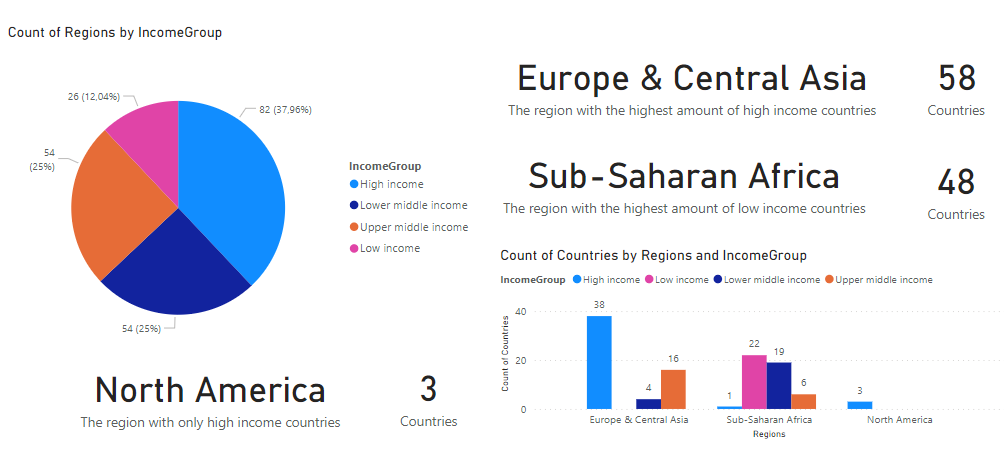

What the dashboard file says about the page in this screenshot:
{"tool":"powerbi","page":{"name":"Region Overview ","canvas":[1280,720],"ordinal":0},"visuals":[{"type":"pieChart","fields":{"Category":["each country metadata.IncomeGroup"],"Y":["CountNonNull(each country metadata.Regions)"]},"box":[20,87.1,561.4,414.3],"z":0},{"type":"card","fields":{"Values":["Min(each country metadata.Regions)"]},"box":[581.4,87.1,500,140],"z":1000},{"type":"card","fields":{"Values":["Min(each country metadata.Regions)"]},"box":[581.4,214.3,481.4,112.9],"z":2000},{"type":"card","fields":{"Values":["Min(each country metadata.Regions)"]},"box":[67.1,464.3,392.9,117.1],"z":3000},{"type":"clusteredColumnChart","fields":{"Category":["each country metadata.Regions"],"Series":["each country metadata.IncomeGroup"],"Y":["CountNonNull(each country metadata.Country Code)"]},"box":[600,348.6,602.9,231.4],"z":4000},{"type":"card","fields":{"Values":["CountNonNull(each country metadata.Country Code)"]},"box":[1081.4,98.6,121.4,115.7],"z":5000},{"type":"card","fields":{"Values":["CountNonNull(each country metadata.Country Code)"]},"box":[1081.4,220,121.4,115.7],"z":6000},{"type":"card","fields":{"Values":["CountNonNull(each country metadata.Country Code)"]},"box":[460,464.3,121.4,115.7],"z":7000}]}

Visuals, with their boxes on the page's 1280x720 design canvas (x1, y1, x2, y2). These are canvas units, not pixel positions in the 1006x453 screenshot, which may show the page scaled, cropped or inside an application window:
pieChart - each country metadata.IncomeGroup x CountNonNull(each country metadata.Regions): left=20, top=87, right=581, bottom=501
card - Min(each country metadata.Regions): left=581, top=87, right=1081, bottom=227
card - Min(each country metadata.Regions): left=581, top=214, right=1063, bottom=327
card - Min(each country metadata.Regions): left=67, top=464, right=460, bottom=581
clusteredColumnChart - each country metadata.Regions x each country metadata.IncomeGroup: left=600, top=349, right=1203, bottom=580
card - CountNonNull(each country metadata.Country Code): left=1081, top=99, right=1203, bottom=214
card - CountNonNull(each country metadata.Country Code): left=1081, top=220, right=1203, bottom=336
card - CountNonNull(each country metadata.Country Code): left=460, top=464, right=581, bottom=580
